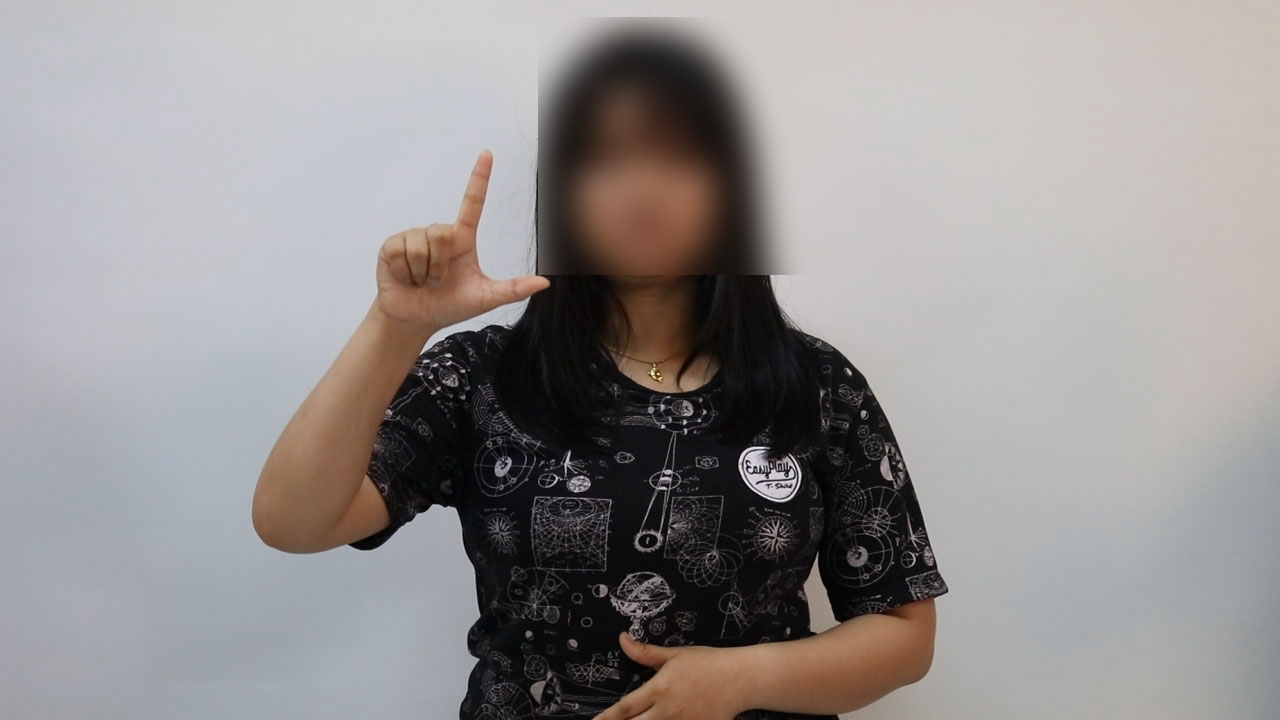lor: (359, 141, 560, 353)
